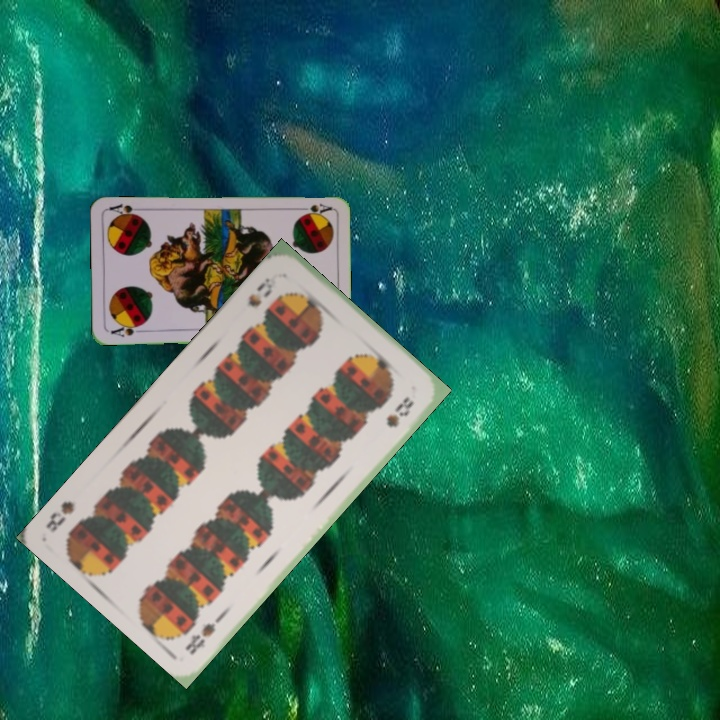S8: (181, 608, 228, 658), (244, 268, 281, 310)
SA: (107, 320, 147, 340), (293, 199, 334, 218)
